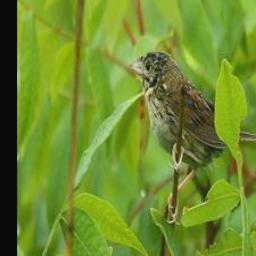Sparrow: (130, 48, 256, 229)
